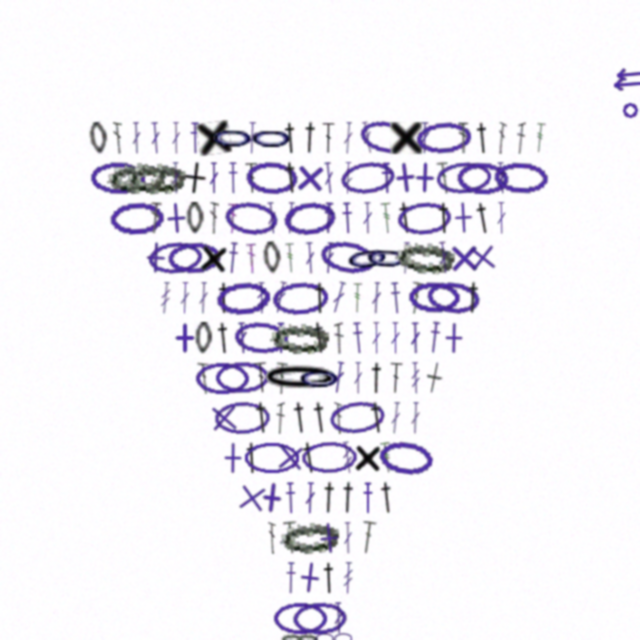chain: (260, 362, 340, 394), (357, 117, 417, 158), (318, 237, 377, 278), (328, 398, 387, 437), (279, 519, 340, 556), (106, 159, 167, 196), (377, 438, 434, 477), (425, 279, 482, 317), (223, 199, 280, 237), (339, 159, 396, 197), (282, 199, 338, 237), (395, 240, 455, 275), (271, 280, 329, 316), (233, 320, 290, 356), (147, 240, 204, 276), (396, 200, 453, 236), (435, 160, 492, 196), (415, 120, 472, 156), (126, 161, 186, 195), (215, 280, 271, 316), (292, 601, 348, 635), (245, 160, 299, 195), (270, 322, 329, 354), (214, 401, 271, 434), (167, 241, 222, 275), (109, 201, 164, 235), (493, 161, 548, 195), (343, 239, 392, 277), (301, 441, 357, 474), (456, 161, 510, 195), (215, 361, 270, 394), (90, 161, 145, 194), (244, 442, 299, 474), (195, 362, 250, 394), (408, 281, 461, 314), (273, 602, 327, 634), (364, 241, 410, 274), (210, 121, 255, 154), (297, 362, 342, 394), (249, 122, 294, 154), (88, 121, 109, 155), (262, 241, 282, 274), (186, 202, 204, 234), (195, 322, 212, 354), (281, 633, 301, 640), (298, 633, 318, 640), (315, 633, 334, 640), (334, 633, 352, 640)
double: (329, 281, 348, 314), (359, 521, 377, 554), (272, 281, 289, 314), (407, 281, 424, 314), (283, 521, 299, 554), (254, 361, 269, 394), (331, 361, 346, 394), (436, 161, 451, 194), (360, 121, 375, 154), (437, 241, 451, 274), (197, 362, 211, 394), (274, 362, 288, 394), (389, 362, 403, 394), (265, 202, 279, 234), (245, 162, 259, 194), (322, 162, 336, 194), (389, 402, 402, 434), (236, 322, 249, 354), (149, 202, 162, 234), (284, 202, 297, 234), (495, 162, 508, 194), (149, 122, 162, 154), (322, 122, 335, 154), (304, 482, 316, 514), (179, 282, 191, 314), (304, 242, 316, 274), (323, 242, 335, 274), (400, 242, 412, 274), (246, 122, 258, 154), (342, 122, 354, 154), (333, 602, 344, 634), (410, 402, 421, 434), (371, 322, 382, 354), (390, 322, 401, 354), (410, 322, 421, 354), (198, 282, 209, 314), (371, 282, 382, 314), (246, 242, 257, 274), (208, 202, 219, 234), (227, 202, 238, 234), (362, 202, 373, 234), (496, 202, 507, 234), (131, 122, 142, 154), (419, 122, 430, 154), (458, 122, 469, 154), (496, 122, 507, 154), (343, 522, 353, 554), (353, 362, 363, 394), (334, 322, 344, 354), (171, 162, 181, 194), (209, 162, 219, 194), (171, 122, 181, 154), (516, 122, 526, 154), (276, 402, 285, 434), (334, 402, 343, 434), (113, 122, 122, 154), (268, 522, 276, 554)
half_double: (472, 201, 494, 235), (299, 441, 320, 474), (309, 321, 330, 354), (395, 201, 416, 234), (319, 481, 339, 514), (338, 481, 358, 514), (377, 481, 397, 514), (252, 401, 272, 434), (290, 401, 310, 434), (310, 401, 330, 434), (367, 401, 387, 434), (463, 281, 483, 314), (281, 161, 301, 194), (300, 121, 320, 154), (367, 362, 386, 394), (214, 322, 233, 354), (281, 122, 300, 154), (473, 122, 492, 154), (320, 562, 338, 594), (243, 442, 261, 474), (215, 282, 233, 314), (311, 282, 329, 314), (435, 202, 453, 234), (427, 321, 442, 354), (351, 322, 365, 354), (389, 282, 403, 314), (226, 242, 240, 274), (284, 482, 297, 514), (322, 202, 335, 234), (341, 202, 354, 234), (380, 162, 393, 194), (285, 562, 297, 594), (362, 482, 374, 514), (275, 322, 287, 354), (227, 162, 239, 194), (189, 122, 201, 154)
noise: (611, 77, 640, 91), (614, 67, 640, 81), (621, 101, 639, 119)
single: (234, 480, 270, 516), (196, 120, 232, 156), (292, 560, 327, 595), (254, 480, 289, 515), (273, 440, 308, 475), (465, 240, 500, 275), (388, 160, 423, 195), (312, 521, 346, 555), (207, 401, 241, 435), (159, 201, 193, 235), (293, 161, 327, 195), (139, 241, 172, 274), (447, 201, 480, 234), (408, 161, 441, 194), (198, 241, 230, 275), (217, 442, 249, 474), (169, 322, 201, 354), (438, 322, 470, 354), (448, 242, 480, 274), (390, 122, 422, 154), (353, 441, 383, 474), (181, 161, 208, 195), (424, 361, 445, 395)
treble: (379, 441, 395, 474), (340, 441, 355, 474), (380, 202, 394, 234), (533, 122, 547, 154), (159, 282, 172, 314), (284, 242, 297, 274), (342, 562, 354, 594), (342, 162, 354, 194), (410, 362, 421, 394), (256, 282, 267, 314), (352, 282, 363, 314)
